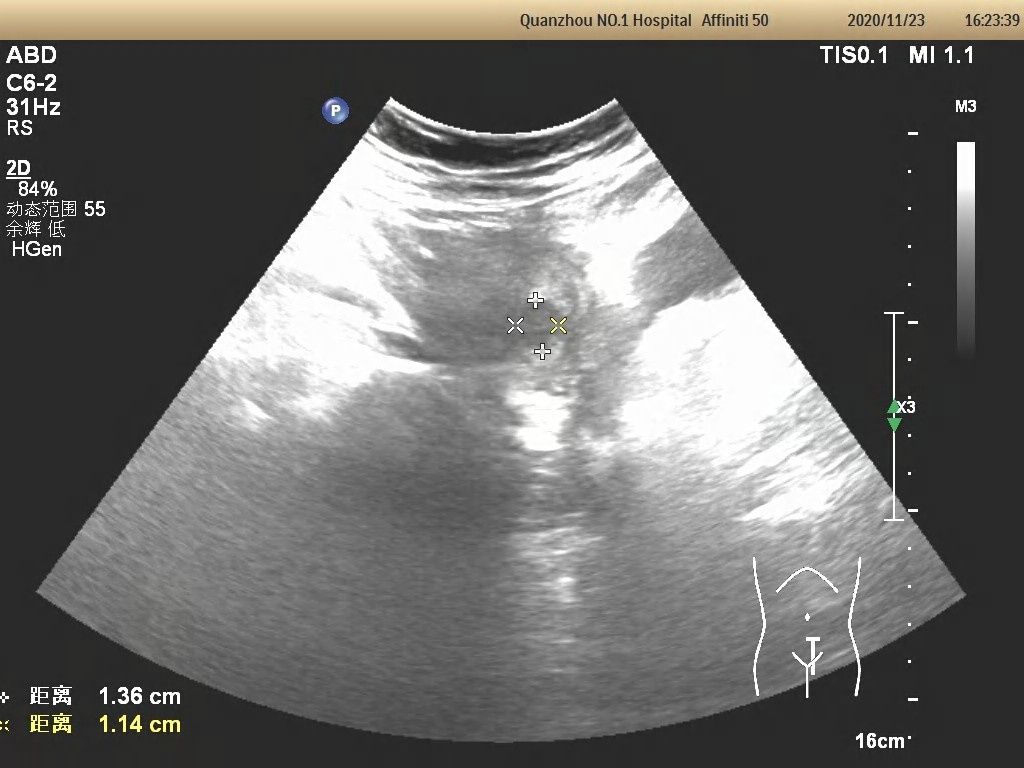肌瘤: (514, 301, 561, 350)
